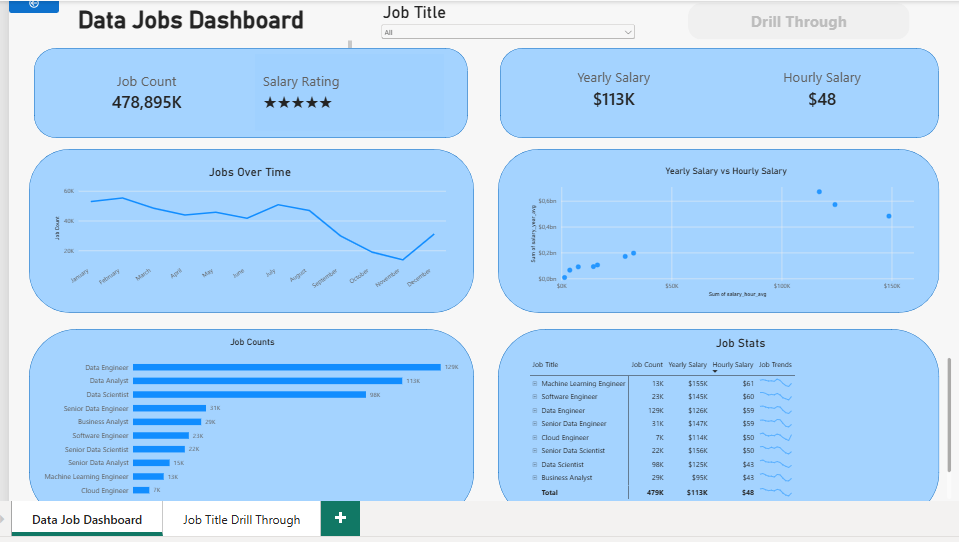

Layout of this report page (visuals, bound fields, positions):
{"tool":"powerbi","page":{"name":"Data Job Dashboard","canvas":[1920,1080],"ordinal":0},"visuals":[{"type":"textbox","title":"Data Jobs Dashboard","box":[41,23.8,643.7,86.4],"z":0},{"type":"shape","box":[50,110,867.5,180],"z":0,"group":"g1"},{"type":"group","id":"g1","title":"Shapes","box":[40,110,1820,945],"z":500},{"type":"slicer","fields":{"Values":["job_postings_flat.job_title_short"]},"box":[740.8,17.6,516.5,75.6],"z":1000},{"type":"shape","box":[40,312.5,890,327.5],"z":1000,"group":"g1"},{"type":"cardVisual","fields":{"Data":["CountNonNull(job_postings_flat.job_title_short)"]},"box":[92.5,122.5,367.5,152.5],"z":2000},{"type":"shape","box":[977.5,312.5,882.5,327.5],"z":2000,"group":"g1"},{"type":"shape","box":[982.5,110,877.5,180],"z":3000,"group":"g1"},{"type":"cardVisual","fields":{"Data":["job_postings_flat.Sum of salary_year_avg star rating"]},"box":[492.5,122.5,377.5,152.5],"z":3000},{"type":"cardVisual","fields":{"Data":["Median(job_postings_flat.salary_year_avg)"]},"box":[1025,125,367.5,130],"z":4000},{"type":"shape","box":[40,672.5,890,382.5],"z":4000,"group":"g1"},{"type":"cardVisual","fields":{"Data":["Median(job_postings_flat.salary_hour_avg)"]},"box":[1450,125,352.5,130],"z":5000},{"type":"shape","box":[977.5,672.5,882.5,382.5],"z":5000,"group":"g1"},{"type":"lineChart","title":"Jobs Over Time","fields":{"Category":["job_postings_flat.job_posted_date.Variation.Date Hierarchy.Month"],"Y":["CountNonNull(job_postings_flat.job_title_short)"]},"box":[73.4,330.5,816.5,293.8],"z":6000},{"type":"scatterChart","title":"Yearly Salary vs Hourly Salary","fields":{"Category":["job_postings_flat.job_title_short"],"X":["Sum(job_postings_flat.salary_hour_avg)"],"Y":["Sum(job_postings_flat.salary_year_avg)"]},"box":[1026,330.5,816.5,293.8],"z":7000},{"type":"barChart","title":"Job Counts","fields":{"Category":["job_postings_flat.job_title_short"],"Y":["CountNonNull(job_postings_flat.job_title_short)"]},"box":[41,671.8,889.9,356.4],"z":8000},{"type":"pivotTable","title":"Job Stats","fields":{"Rows":["job_postings_flat.job_title_short","job_postings_flat.job_posted_date.Variation.Date Hierarchy.Quarter"],"Values":["CountNonNull(job_postings_flat.job_title_short)","Median(job_postings_flat.salary_year_avg)","Median(job_postings_flat.salary_hour_avg)","SparklineData(CountNonNull(job_postings_flat.job_title_short)_[job_postings_flat.job_posted_date.Variation.Date Hierarch"]},"box":[1026,671.8,874.8,356.4],"z":9000},{"type":"actionButton","box":[1358.1,20.2,443.5,73.1],"z":9001},{"type":"actionButton","box":[0,0,100,40],"z":9002}]}

Visuals, with their boxes on the page's 1920x1080 design canvas (x1, y1, x2, y2). These are canvas units, not pixel positions in the 959x542 screenshot, which may show the page scaled, cropped or inside an application window:
"Data Jobs Dashboard" textbox: (41,24,685,110)
shape: (50,110,918,290)
"Shapes" group: (40,110,1860,1055)
slicer - job_postings_flat.job_title_short: (741,18,1257,93)
shape: (40,312,930,640)
cardVisual - CountNonNull(job_postings_flat.job_title_short): (92,122,460,275)
shape: (978,312,1860,640)
shape: (982,110,1860,290)
cardVisual - job_postings_flat.Sum of salary_year_avg star rating: (492,122,870,275)
cardVisual - Median(job_postings_flat.salary_year_avg): (1025,125,1392,255)
shape: (40,672,930,1055)
cardVisual - Median(job_postings_flat.salary_hour_avg): (1450,125,1802,255)
shape: (978,672,1860,1055)
"Jobs Over Time" lineChart: (73,330,890,624)
"Yearly Salary vs Hourly Salary" scatterChart: (1026,330,1842,624)
"Job Counts" barChart: (41,672,931,1028)
"Job Stats" pivotTable: (1026,672,1901,1028)
actionButton: (1358,20,1802,93)
actionButton: (0,0,100,40)
